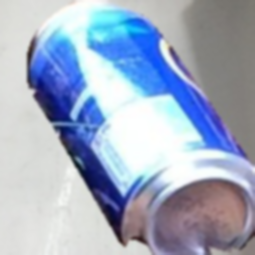can_s: (25, 1, 255, 255)
